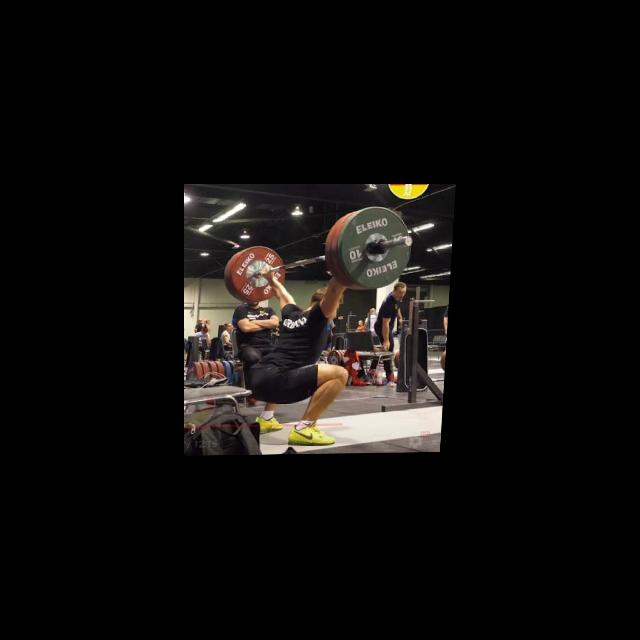barbell: (336, 205, 420, 292)
